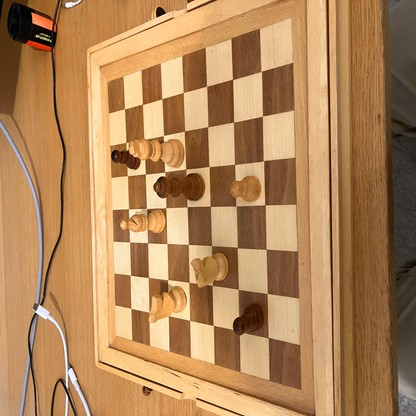bishop_white: (120, 212, 166, 232)
king_white: (129, 139, 184, 168)
knight_white: (150, 289, 185, 324), (191, 254, 229, 285)
pawn_black: (233, 304, 263, 335), (111, 149, 139, 167)
pawn_white: (230, 174, 262, 200)
queen_black: (155, 174, 205, 200)
